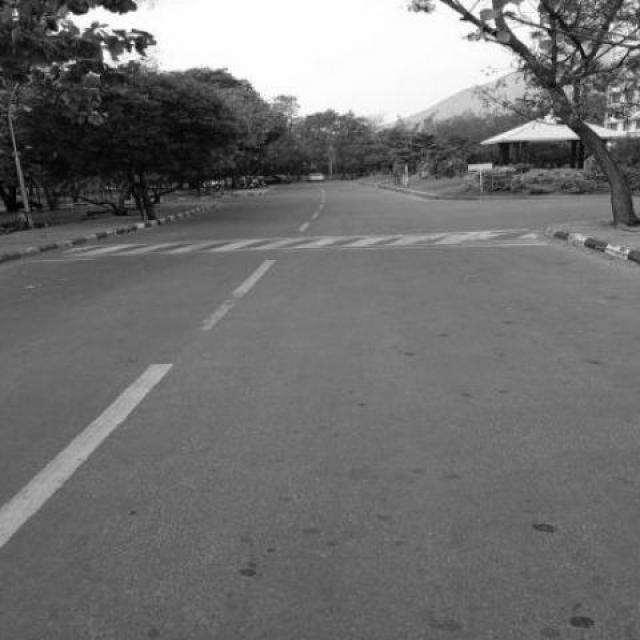Speed Bump: (47, 229, 550, 260)
